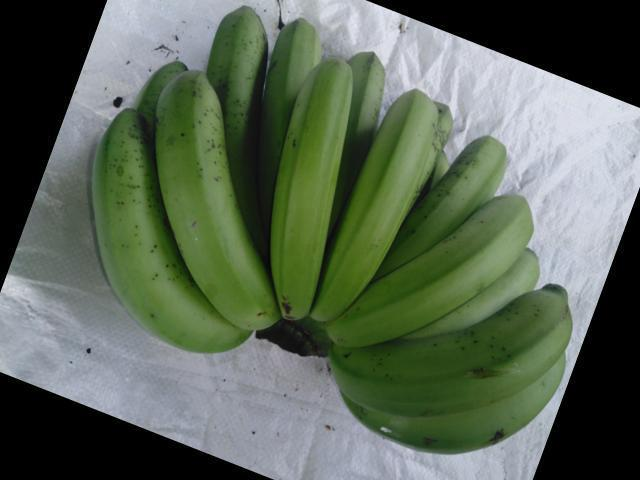freshunripe: (338, 182, 549, 345), (312, 82, 441, 327), (260, 49, 360, 326)
unripe: (323, 286, 582, 420), (75, 106, 213, 351), (150, 60, 273, 319)
